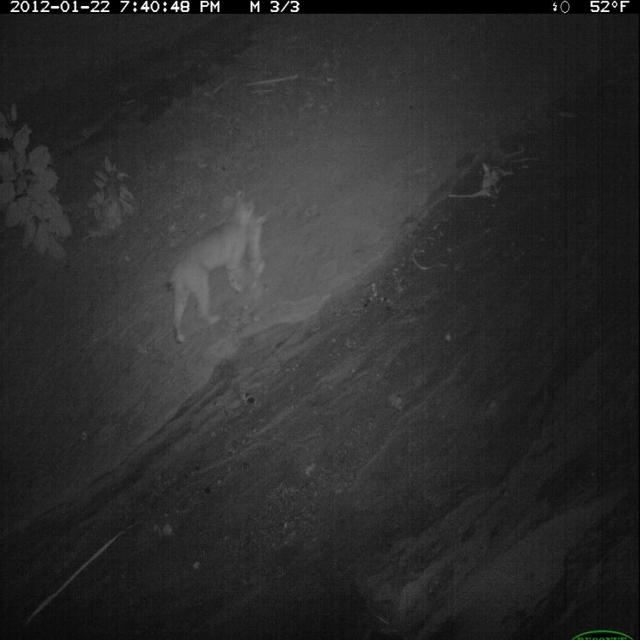bobcat: (163, 185, 262, 348)
rabbit: (249, 211, 271, 299)
